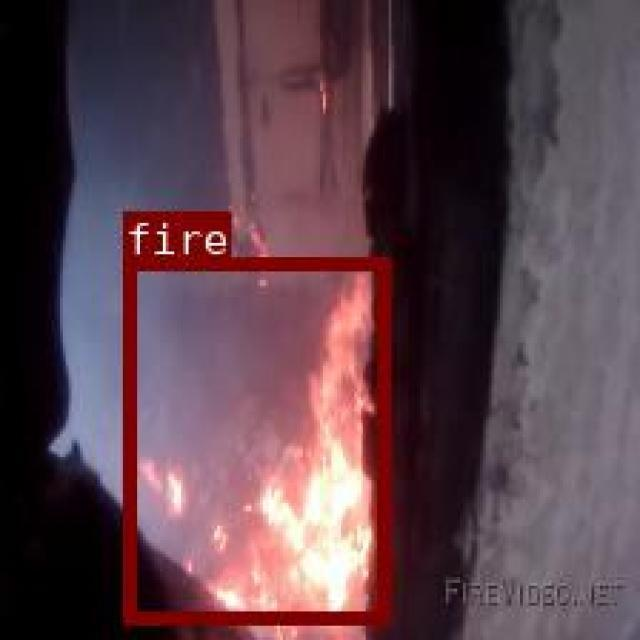fire: (122, 257, 388, 622)
